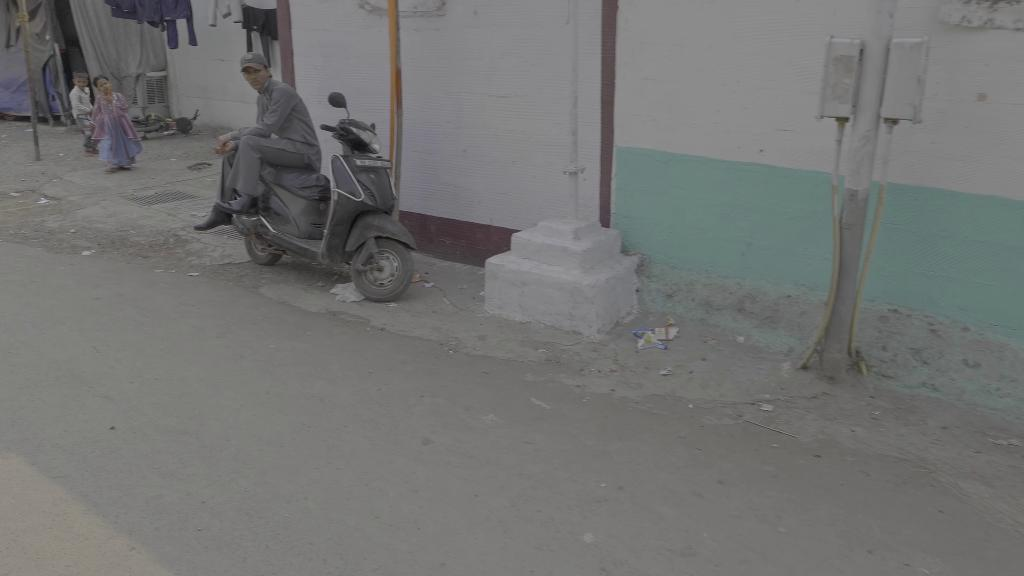garbage: (634, 319, 684, 355)
